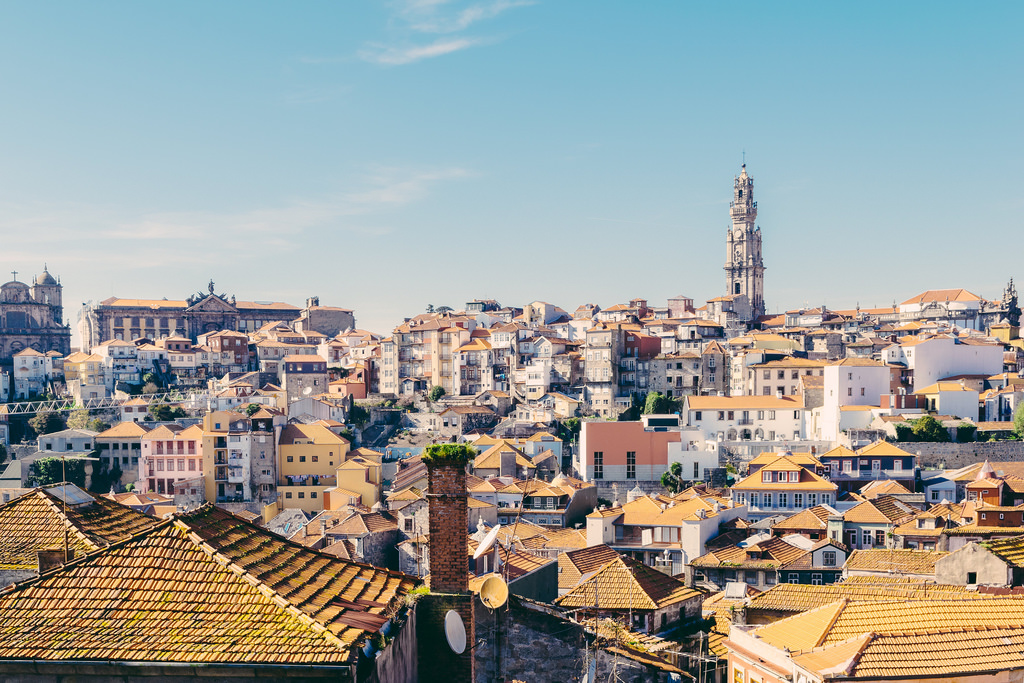clerigos: (721, 150, 772, 322)
